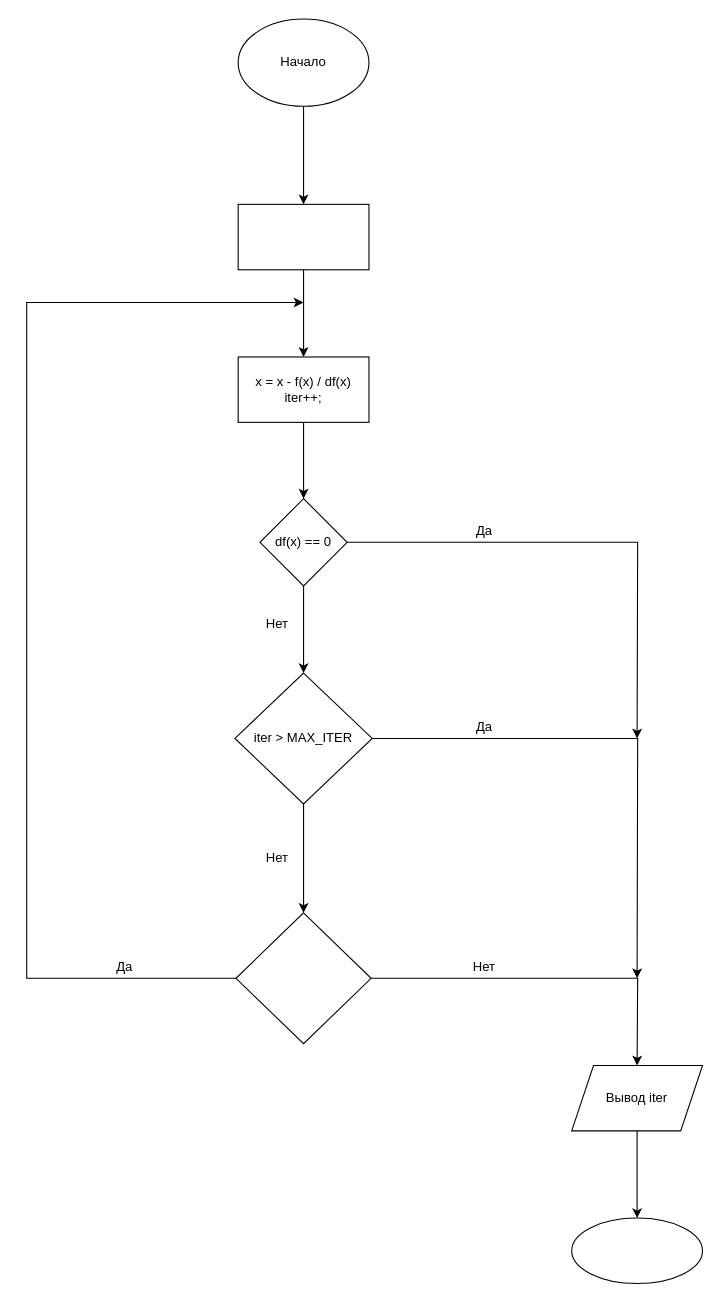
This 722x1303 diagram has some shape labels left out. Here are the shapes that lost their labels. From the top down, the box of each, then its label:
(237, 203, 369, 270): int iter = 1;
(235, 912, 371, 1044): abs(f(x)) > eps
(571, 1217, 703, 1283): Конец
